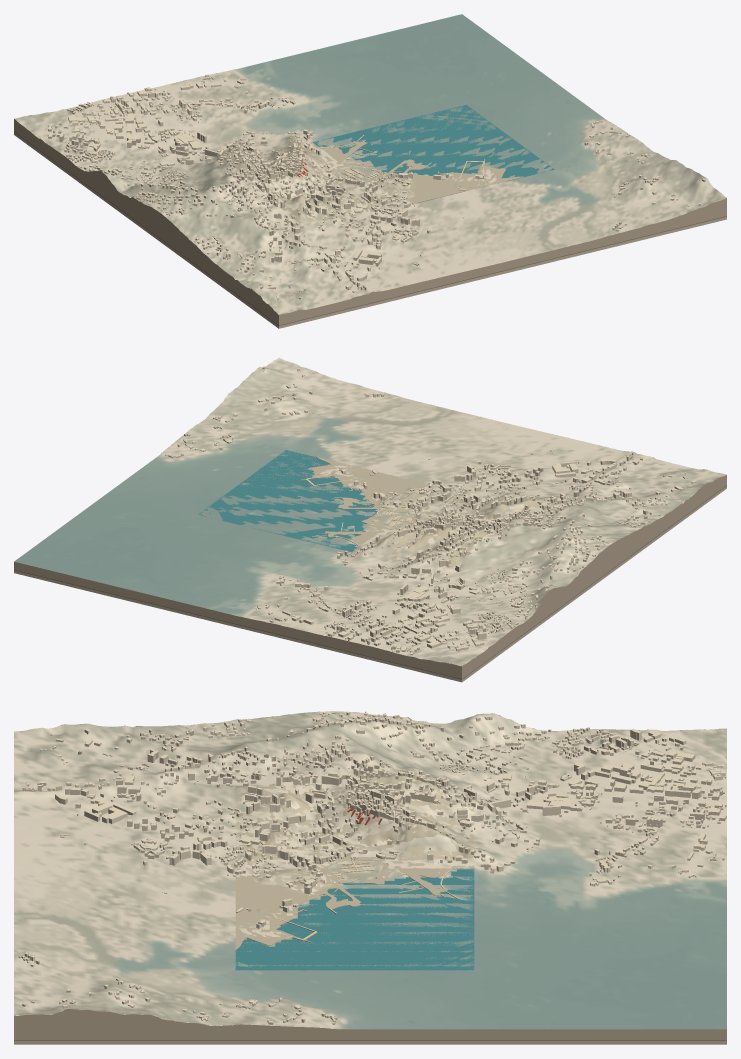
File: portivechju.glb
3 views of the same model, one above another, from view 1: azimuth 30°, elevation 25°; view 2: azimuth 150°, elevation 25°; view 3: azimuth 270°, elevation 25° (orthographic). The views are drawn at different scales.
Visible parts, largest first — view 1: Terrain, Maisons, Tranche, Rivage1951, RiveDeReference, Rivage2024, Rivage1975; view 2: Terrain, Maisons, Tranche, Rivage1951, RiveDeReference, Rivage2024, Rivage1975; view 3: Terrain, Maisons, Rivage1951, RiveDeReference, Tranche, Rivage1975, Rivage2024.
Boxes of the visible parts, bbox=[...] form: Terrain: bbox=[14, 14, 726, 314]; Maisons: bbox=[47, 74, 705, 302]; Tranche: bbox=[14, 69, 726, 328]; Rivage1951: bbox=[216, 104, 554, 221]; RiveDeReference: bbox=[213, 106, 552, 220]; Rivage2024: bbox=[241, 117, 542, 218]; Rivage1975: bbox=[218, 119, 538, 219]; Terrain: bbox=[14, 357, 726, 666]; Maisons: bbox=[165, 366, 707, 655]; Tranche: bbox=[14, 372, 726, 682]; Rivage1951: bbox=[198, 450, 543, 568]; RiveDeReference: bbox=[198, 451, 538, 572]; Rivage2024: bbox=[227, 454, 537, 564]; Rivage1975: bbox=[232, 456, 540, 563]; Terrain: bbox=[14, 711, 726, 1029]; Maisons: bbox=[18, 711, 726, 1024]; Rivage1951: bbox=[235, 773, 474, 970]; RiveDeReference: bbox=[235, 773, 474, 970]; Tranche: bbox=[14, 711, 726, 1044]; Rivage1975: bbox=[235, 775, 474, 970]; Rivage2024: bbox=[235, 777, 474, 970].
Bounding box in the file's own units: 2.89 × 0.2457 × 2.96.
